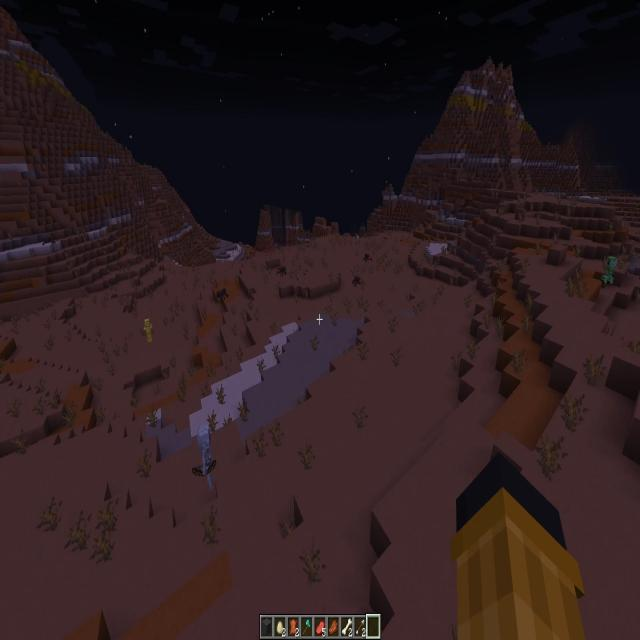Creeper: (606, 258, 614, 282)
Skeleton: (199, 427, 214, 488), (357, 235, 359, 245)
Spider: (352, 274, 363, 286), (217, 287, 227, 299), (278, 265, 286, 275), (364, 254, 374, 262), (44, 238, 54, 244)
Zombie: (144, 320, 153, 344)
